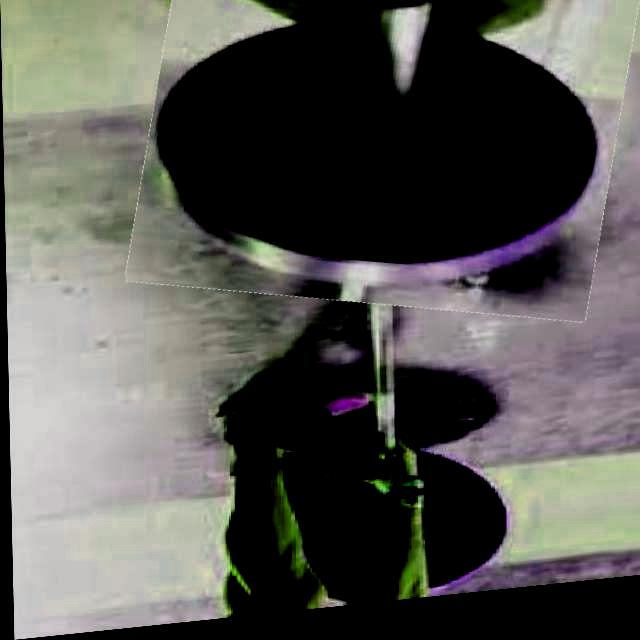barbell: (133, 1, 632, 350)
